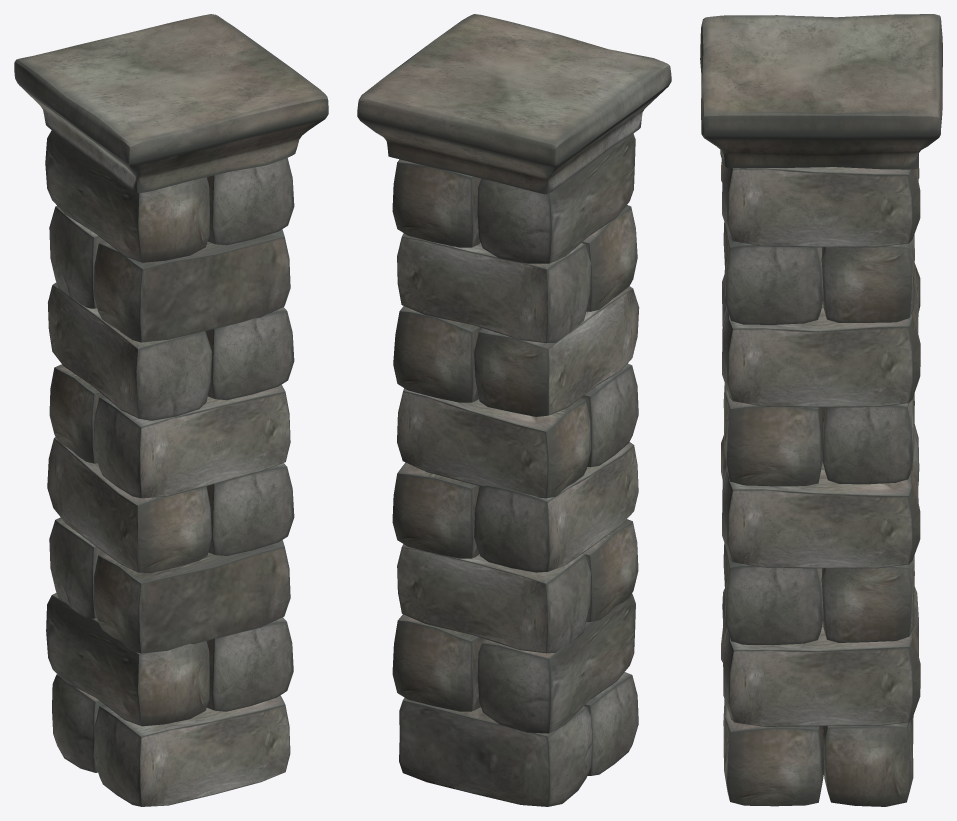
File: column_stylized_low-poly_3d_model.glb
3 renders of one model, left to right at view 1: azimuth 30°, elevation 25°; view 2: azimuth 150°, elevation 25°; view 3: azimuth 270°, elevation 25°, orthographic. The views are drawn at different scales.
Parts seen in each view (by area): view 1: Column.002; view 2: Column.002; view 3: Column.002.
Part boxes in pixels (<box>): Column.002: <box>14,14,328,806</box>; Column.002: <box>357,14,671,806</box>; Column.002: <box>700,14,942,806</box>.
Bounding box in the file's own units: 1.4 × 4.55 × 1.41.
Materials: 1 (1 with a texture image).
